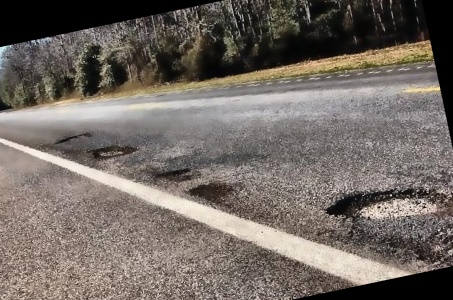pothole: (324, 174, 449, 236), (188, 176, 238, 207), (89, 139, 141, 164), (153, 164, 196, 186), (55, 129, 95, 146)
